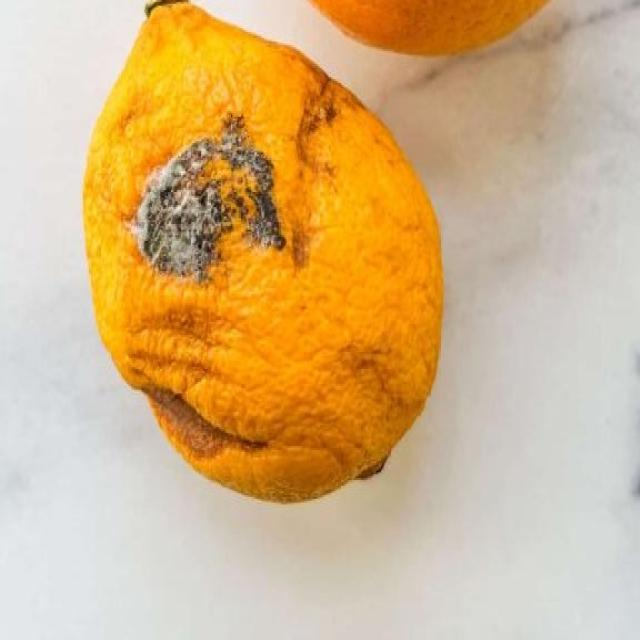overripe: (82, 0, 446, 514)
